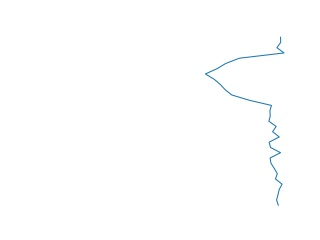distalBar: (202, 37, 289, 207)
